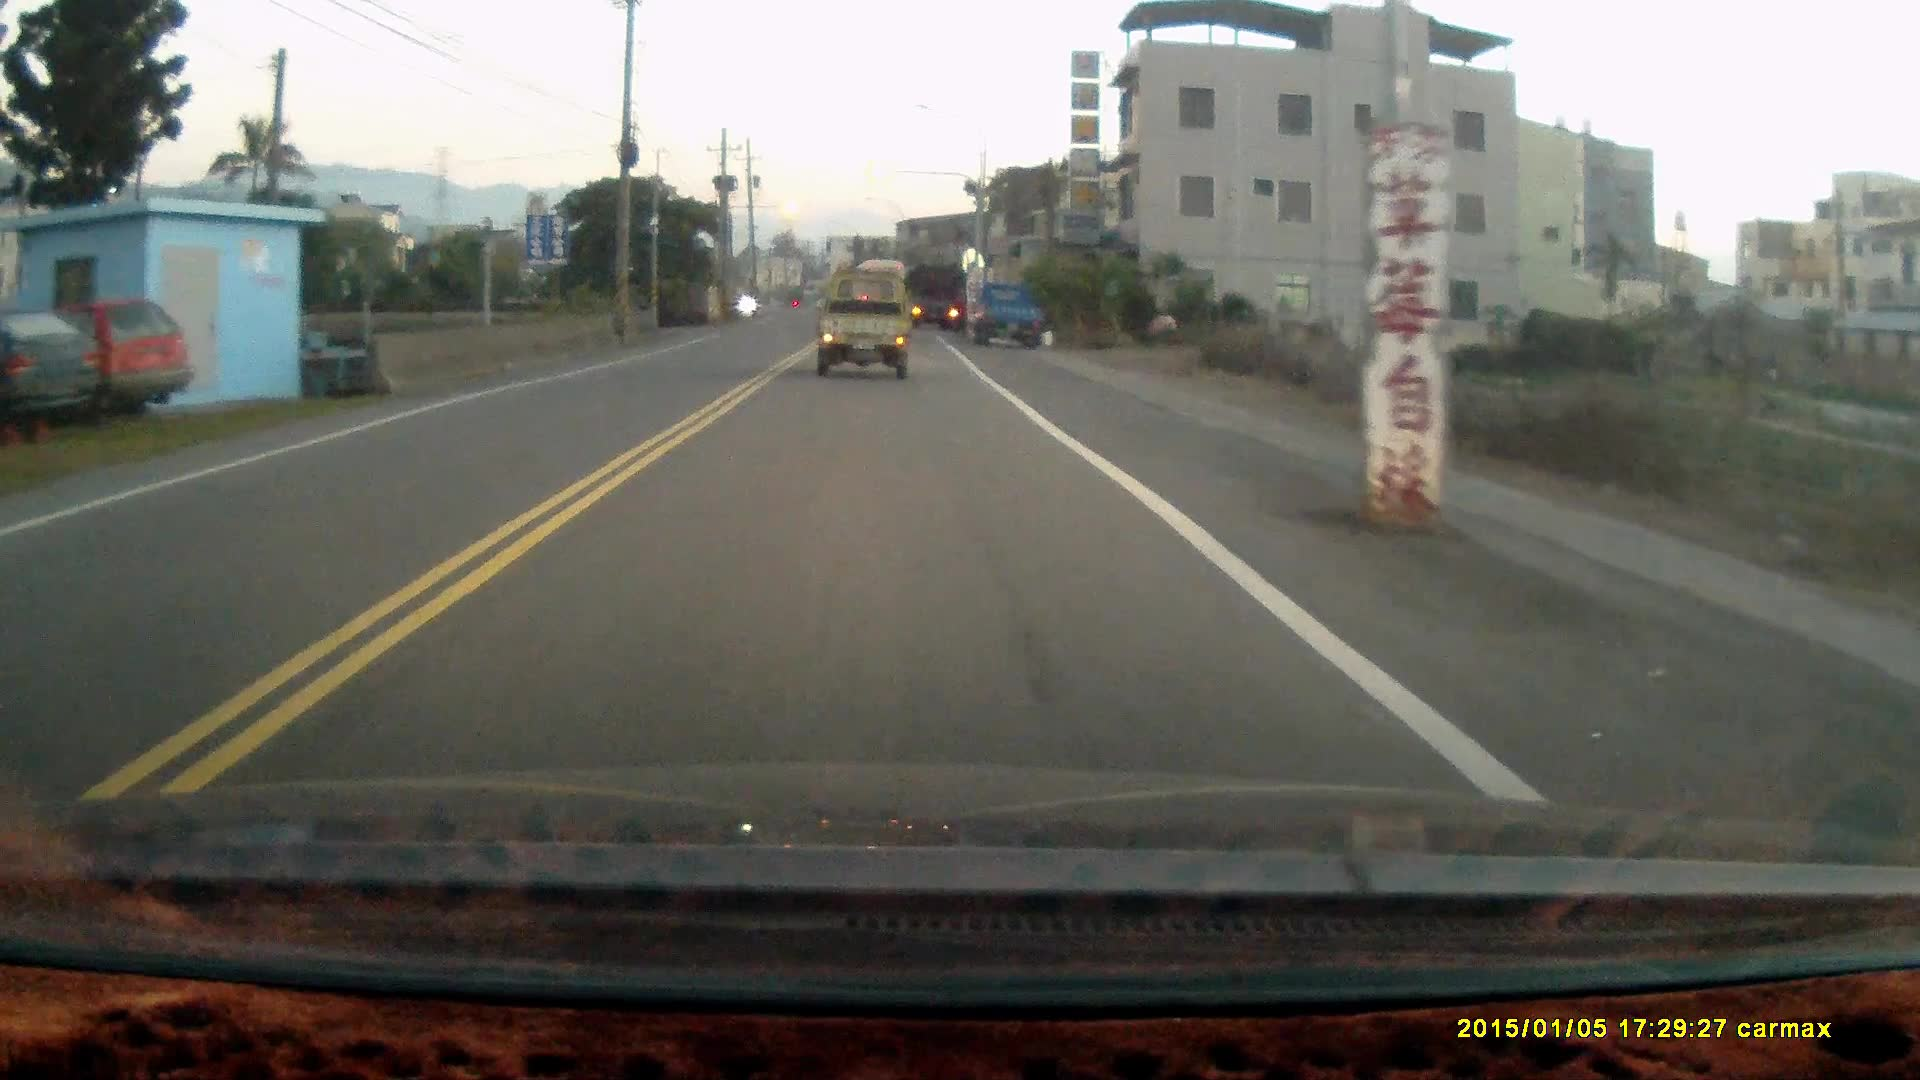vehicle: (11, 301, 194, 423), (1, 303, 98, 436), (815, 276, 916, 378), (968, 287, 1052, 353), (905, 262, 969, 327)
